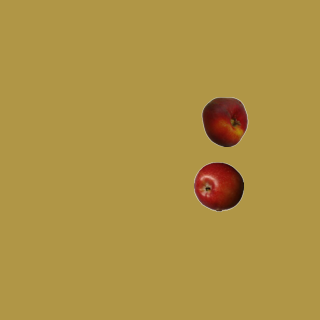Apple Braeburn: (193, 161, 243, 211)
Nectarine Flat: (199, 96, 249, 146)
